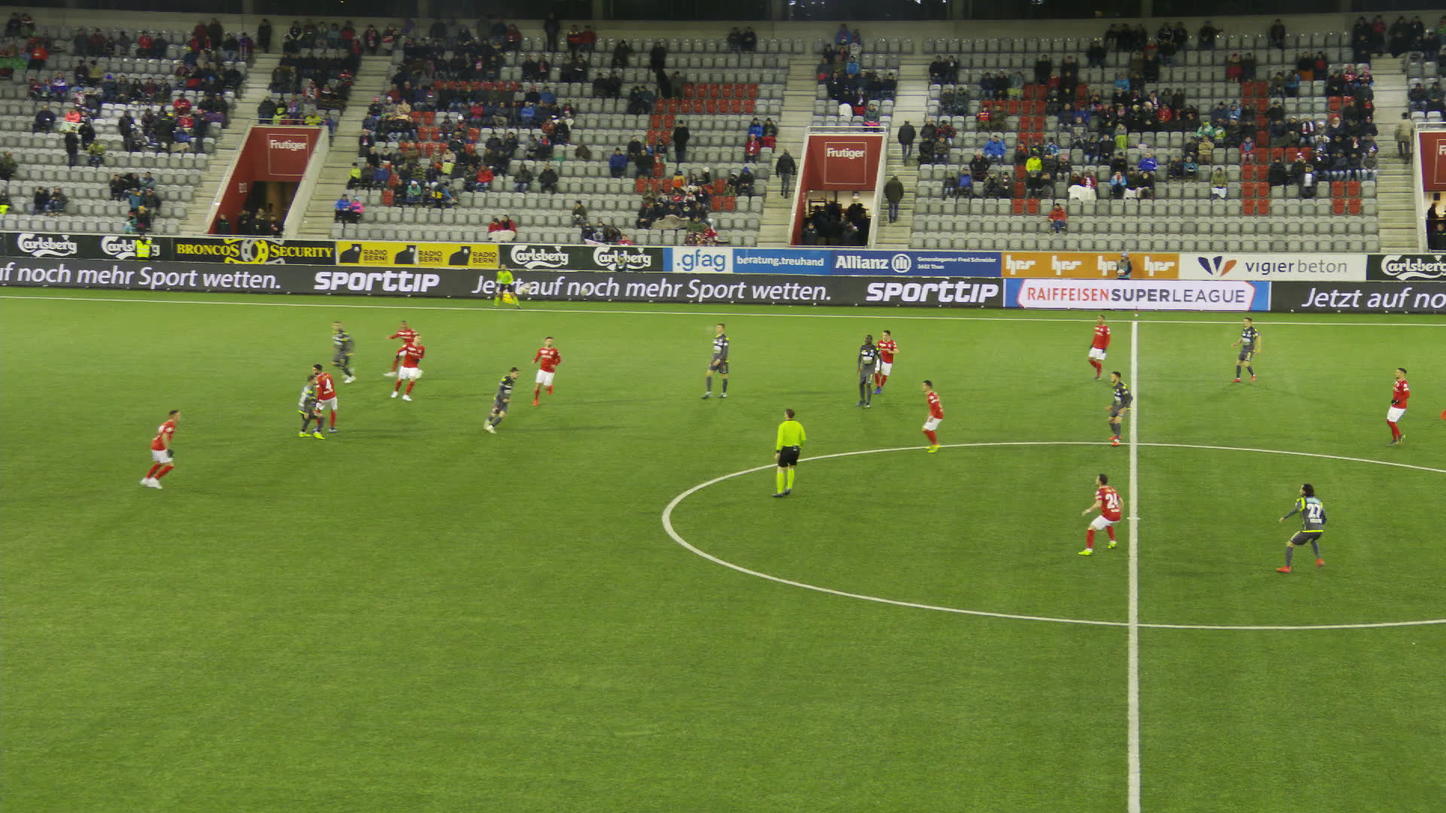ball: (505, 291, 516, 302)
player: (1277, 480, 1334, 574), (1077, 470, 1126, 556), (292, 364, 343, 435), (310, 320, 365, 384), (145, 405, 185, 489), (697, 321, 730, 400), (484, 364, 520, 434), (389, 326, 423, 399), (288, 372, 320, 443), (529, 332, 560, 405), (920, 377, 946, 455), (855, 333, 881, 410), (1107, 369, 1133, 444), (1385, 366, 1409, 446), (1234, 317, 1262, 385), (871, 330, 899, 396), (394, 321, 425, 379), (1086, 314, 1109, 379), (1439, 408, 1445, 421)
referee: (770, 410, 804, 498), (494, 263, 521, 309)
